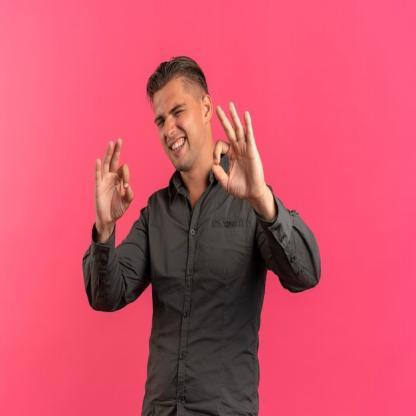ok: (209, 99, 265, 204), (94, 136, 136, 228)
